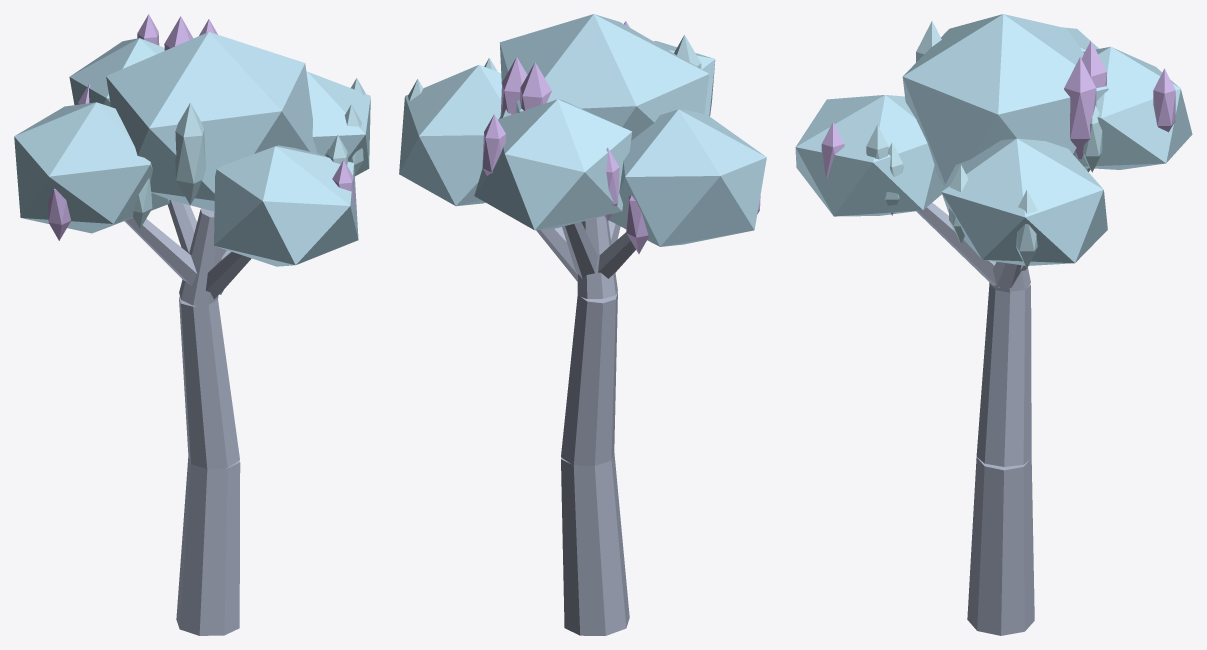
File: Tree_Crystalwood.fbx
The picture shows the model from 3 angles, left to right: view 1: azimuth 30°, elevation 25°; view 2: azimuth 150°, elevation 25°; view 3: azimuth 270°, elevation 25°; orthographic projection. The views are drawn at different scales.
Visible parts, largest first — view 1: Tree_Crystalwood_Mesh; view 2: Tree_Crystalwood_Mesh; view 3: Tree_Crystalwood_Mesh.
Part boxes in pixels (x1,y1,x2,y2): Tree_Crystalwood_Mesh: [14, 14, 370, 635]; Tree_Crystalwood_Mesh: [399, 14, 766, 635]; Tree_Crystalwood_Mesh: [795, 14, 1192, 635].
Size of the model in its own units: 6.68 by 10.96 by 6.48.
